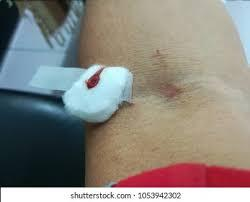Bandage: (31, 65, 132, 122)
cotton: (63, 65, 132, 122)
